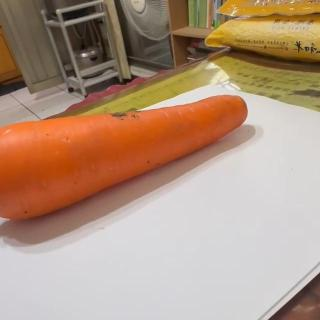carrot: (0, 91, 251, 219)
